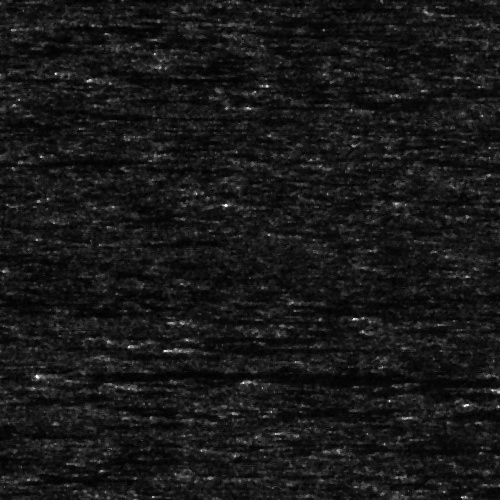object: (3, 369, 76, 378), (204, 18, 277, 25), (459, 384, 500, 393), (312, 443, 353, 452), (230, 29, 271, 36), (0, 156, 25, 167), (176, 346, 217, 351), (181, 334, 212, 339), (19, 24, 60, 27), (209, 103, 250, 106)
shadow: (40, 369, 500, 378), (0, 156, 170, 167), (332, 443, 500, 452), (241, 18, 417, 25), (196, 346, 377, 351), (251, 29, 369, 36), (197, 334, 317, 339), (0, 450, 32, 461), (40, 24, 150, 27), (230, 103, 288, 106)
